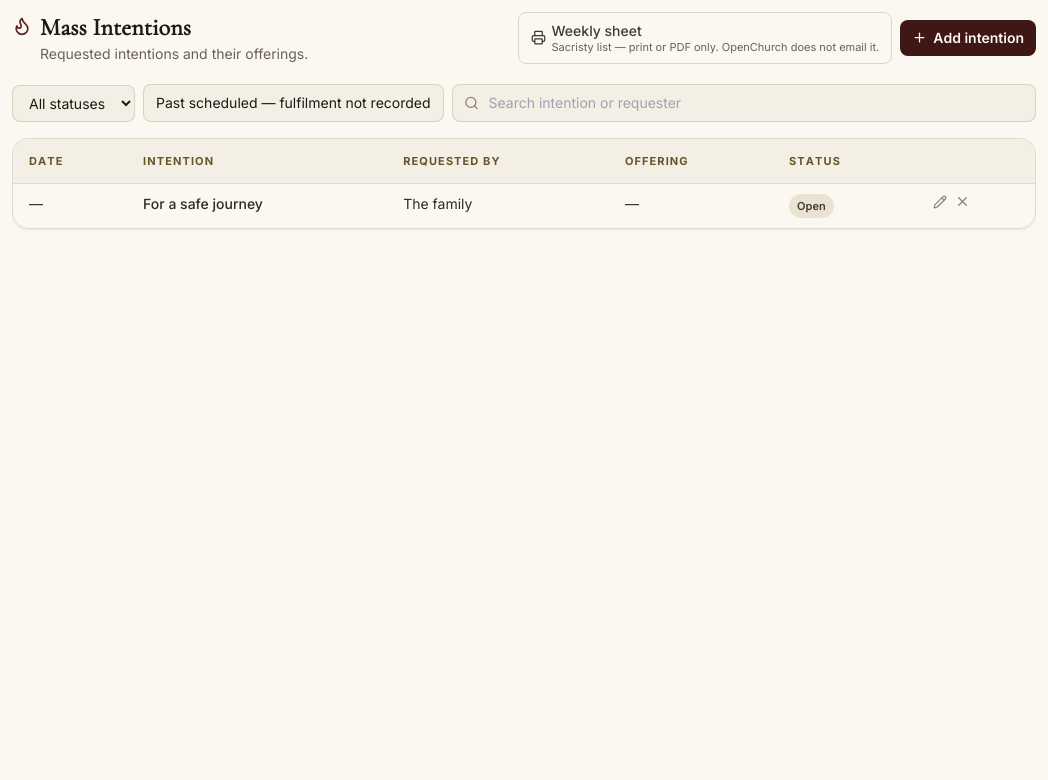
Test: SP-055 save confirmation › PATCH 200 shows "updated"
Click the button named "edit intention" at [940, 202], box [933, 194, 947, 208]
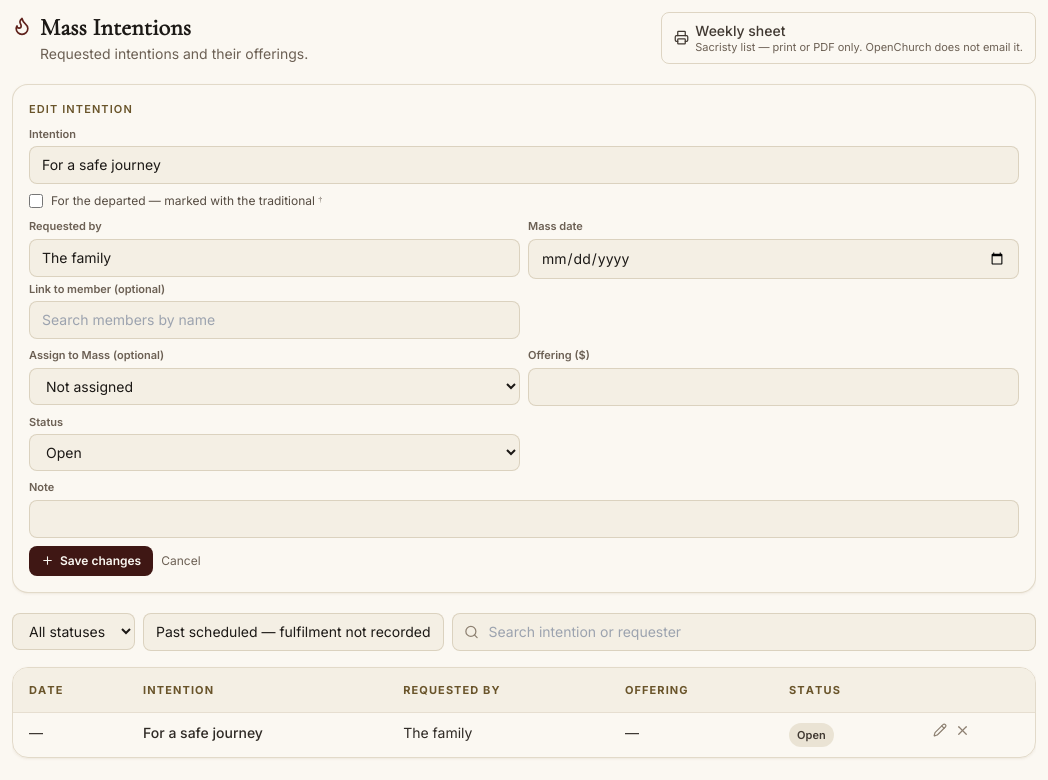
Click the button "Save changes" at [91, 560], box [29, 546, 153, 576]
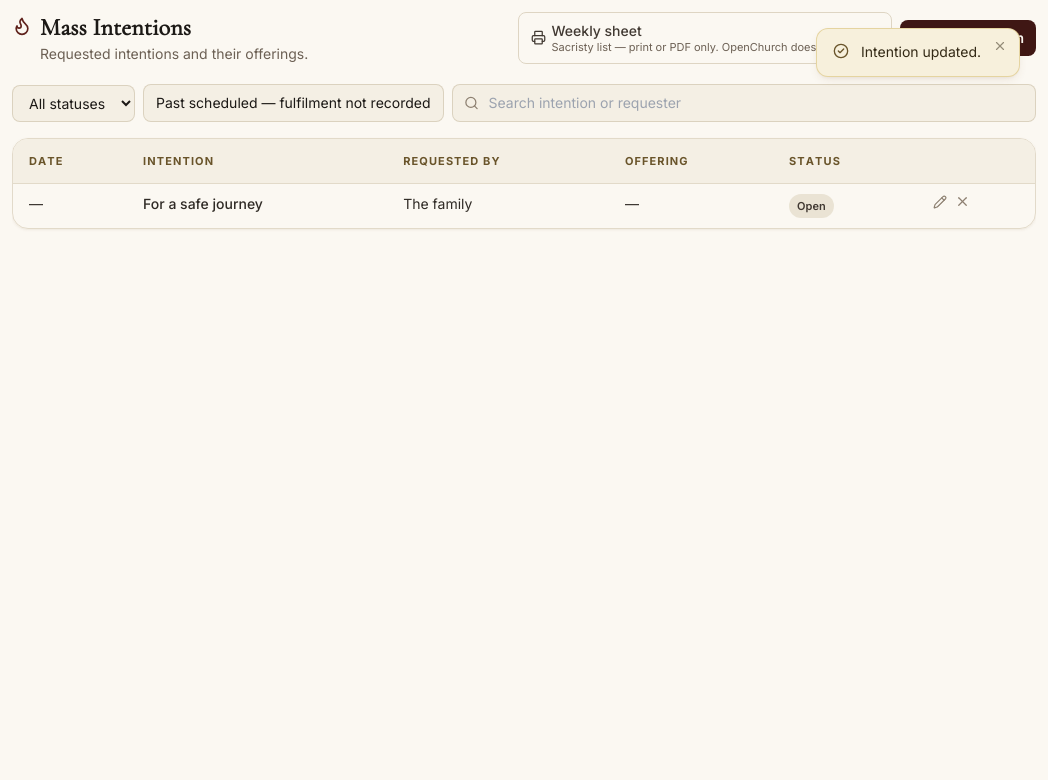
Result: the text "Intention updated." is shown at [861, 41, 981, 64]
